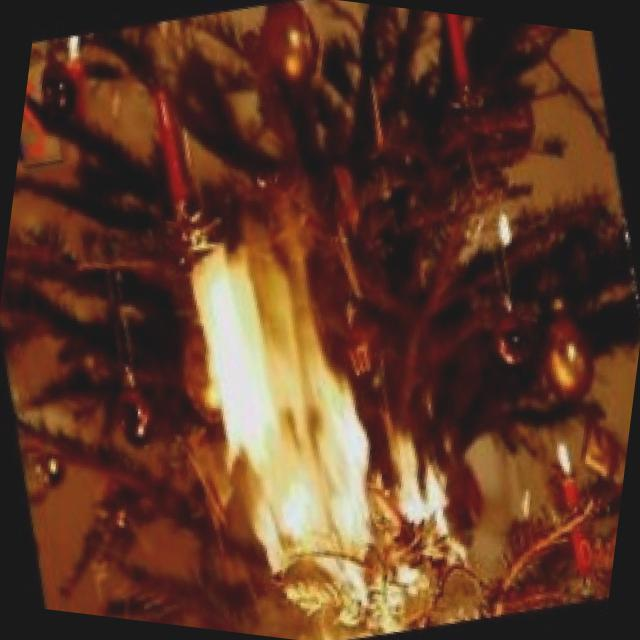fire: (107, 155, 530, 640)
